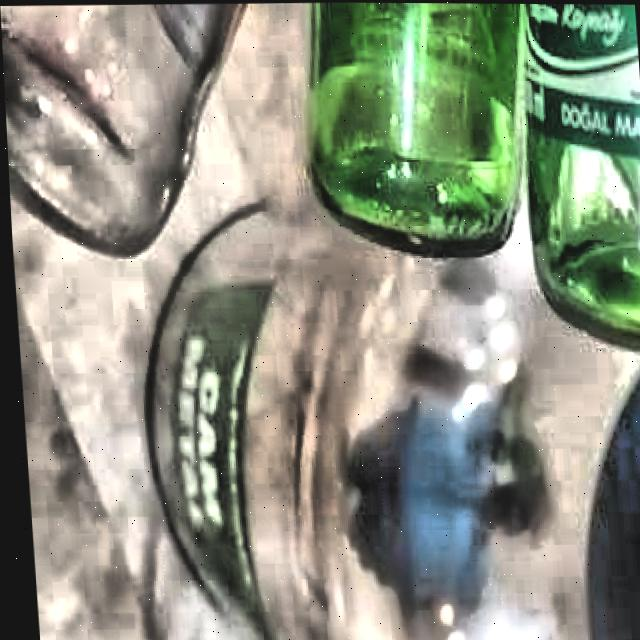glass: (306, 2, 640, 349)
